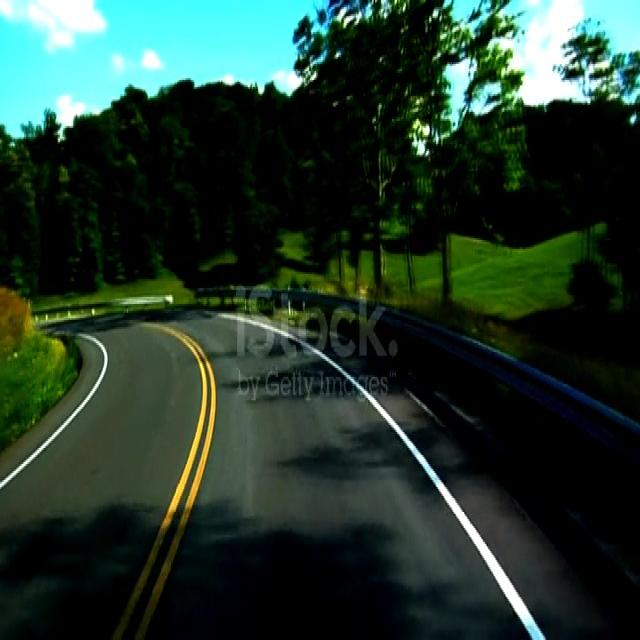lane: (240, 317, 545, 640), (112, 324, 216, 638), (2, 333, 108, 488)
road: (147, 313, 525, 636), (352, 357, 611, 636), (0, 322, 201, 636)
